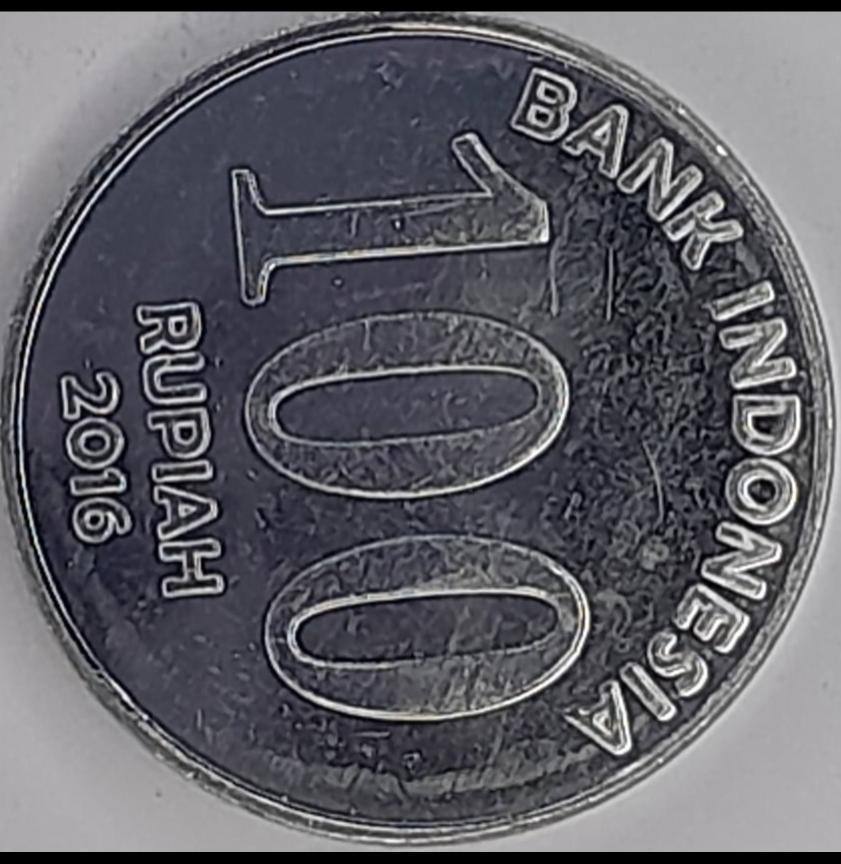coin_100_e2016: (0, 9, 840, 847)
